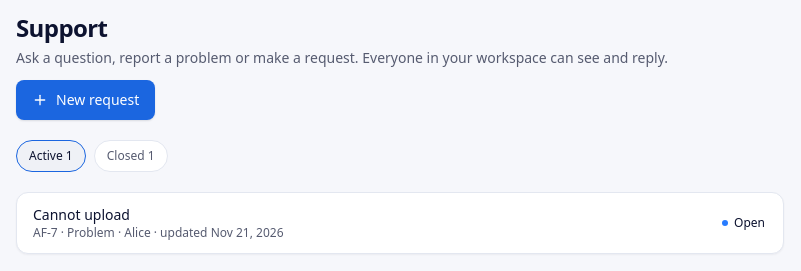
Test case: SupportCenter › shows closed requests on their own tab
Click the button "Closed 1".
click(131, 156)  # box [94,140,168,172]
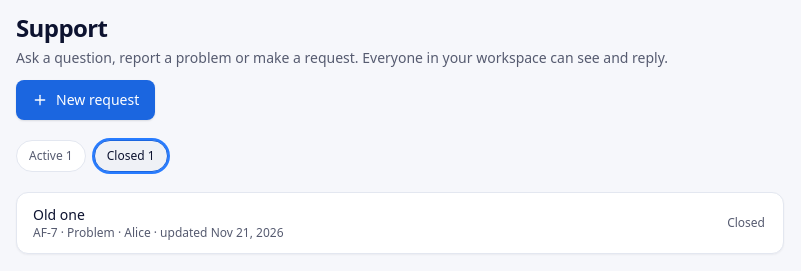
Now the text "Old one" is shown, box [33,205,85,224]
Now the link "Cannot upload" is gone
